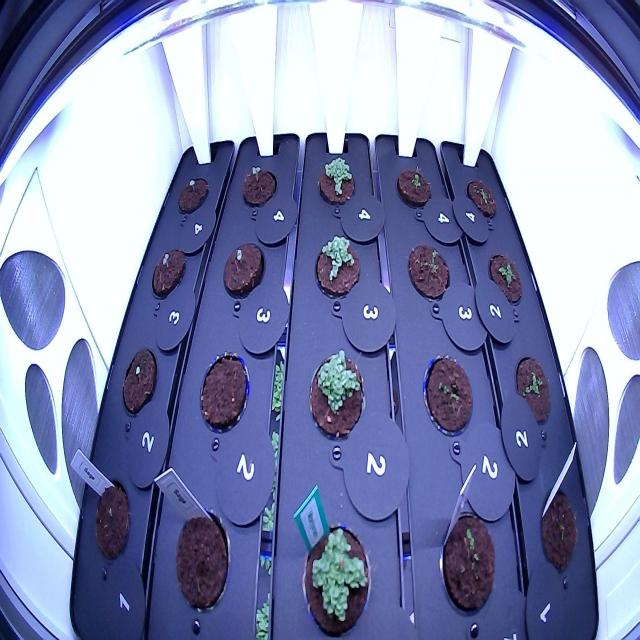germination: (294, 508, 376, 640), (299, 340, 372, 449), (432, 506, 497, 620), (418, 343, 476, 441), (309, 223, 364, 308), (511, 345, 554, 434), (217, 234, 267, 307), (117, 338, 159, 423), (402, 233, 450, 307), (311, 151, 360, 212), (147, 240, 188, 308), (483, 244, 526, 306), (239, 156, 278, 216), (392, 158, 435, 212), (175, 166, 210, 224), (464, 171, 499, 227)
pod: (163, 502, 233, 618), (196, 347, 252, 439), (88, 468, 134, 569), (535, 481, 581, 576)
